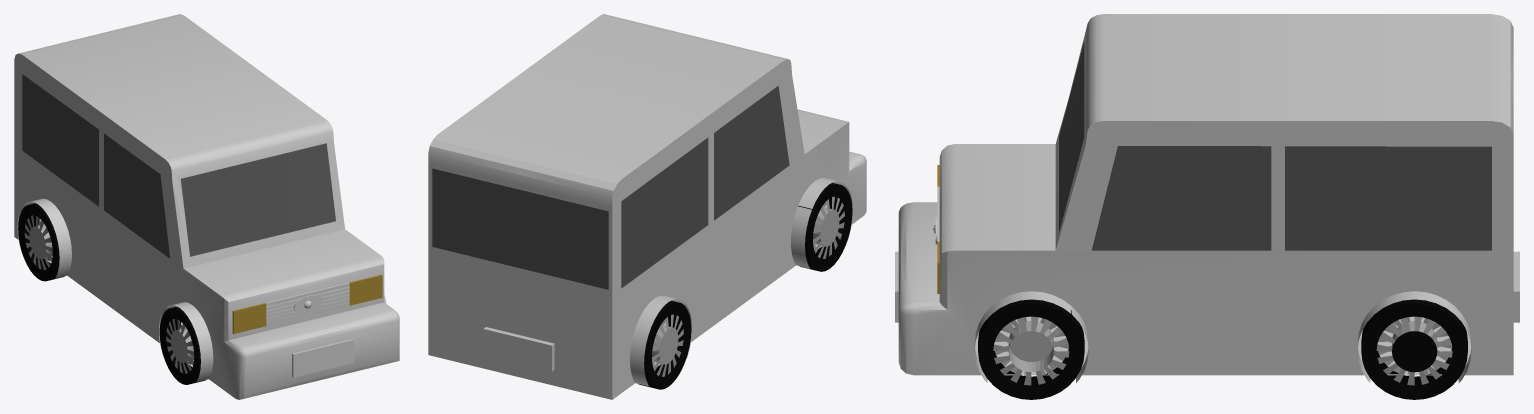
The model's file is NPCcar1_silver.fbx.
The picture shows the model from 3 angles, left to right: view 1: azimuth 30°, elevation 25°; view 2: azimuth 150°, elevation 25°; view 3: azimuth 270°, elevation 25°; orthographic projection. The views are drawn at different scales.
Parts seen in each view (by area): view 1: car01_silver; view 2: car01_silver; view 3: car01_silver.
Part boxes in pixels (bbox=[...]): car01_silver: bbox=[14, 14, 399, 399]; car01_silver: bbox=[428, 14, 866, 399]; car01_silver: bbox=[895, 14, 1519, 399].
Bounding box in the file's own units: 54.09 × 54.89 × 115.
